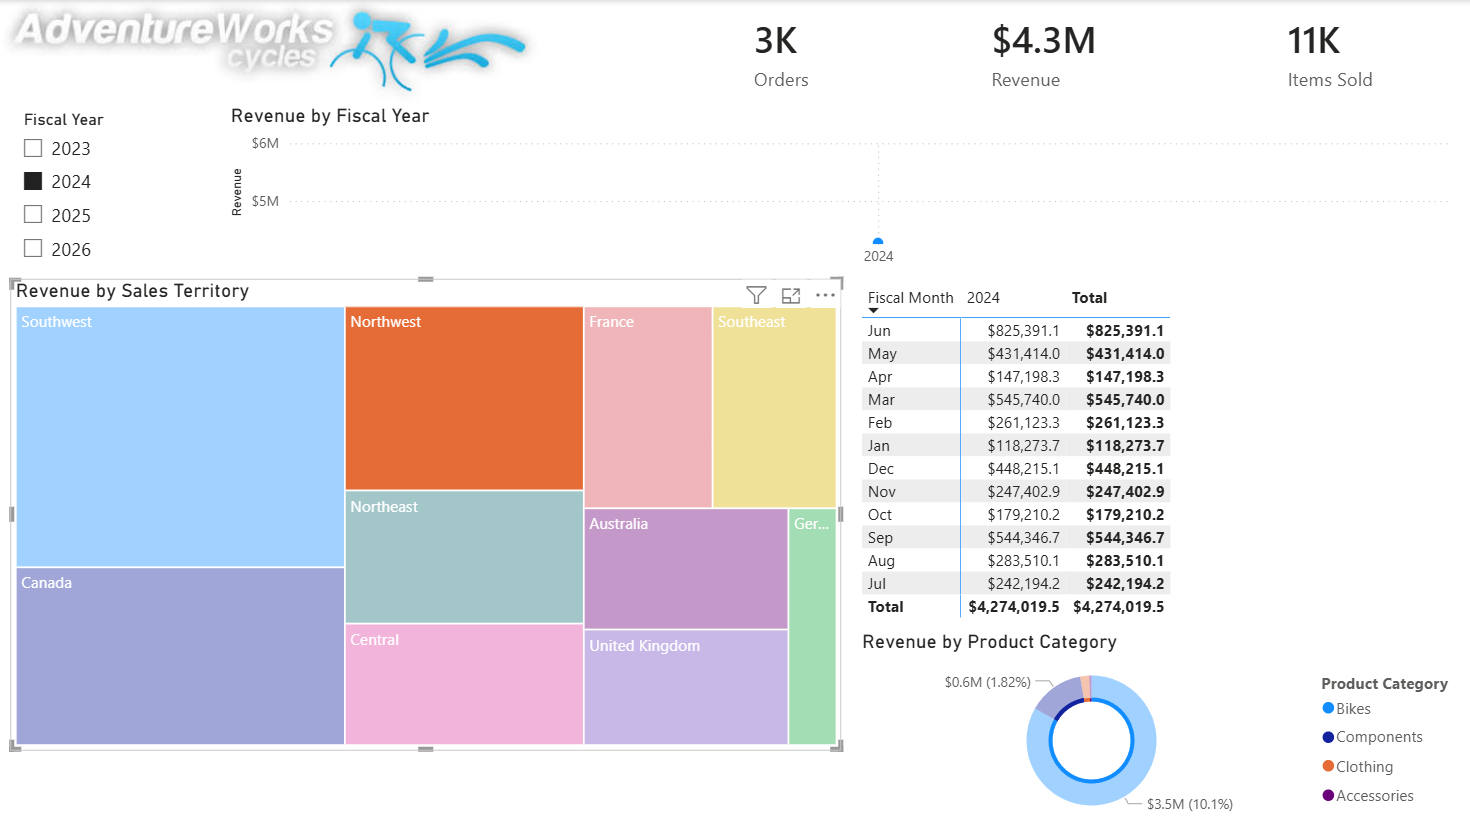

This screenshot's page, from the dashboard's own definition file:
{"tool":"powerbi","page":{"name":"Sales Report","canvas":[1280,720],"ordinal":0},"visuals":[{"type":"areaChart","fields":{"Y":["Order Items.Revenue1"],"Category":["Calendar.Fiscal Year Hierarchy.Fiscal Year","Calendar.Fiscal Year Hierarchy.Fiscal Month","Calendar.Fiscal Year Hierarchy.Day of Week"]},"box":[197.1,90.4,1071.4,151.1],"z":1000},{"type":"pivotTable","fields":{"Rows":["Calendar.Fiscal Month"],"Columns":["Calendar.Fiscal Year"],"Values":["Order Items.Revenue"]},"box":[745.4,241.9,534.9,304.7],"z":2000},{"type":"treemap","title":"Revenue by Sales Territory","fields":{"Values":["Order Items.Revenue"],"Group":["Orders.Value.Territory"]},"box":[9.3,241.9,723.3,410.5],"z":3000},{"type":"image","box":[0,0,470,90.5],"z":4000},{"type":"cardVisual","fields":{"Data":["Order Items.Orders"]},"box":[629.8,0,133.4,90.4],"z":5000},{"type":"cardVisual","fields":{"Data":["Order Items.Revenue after Discount"]},"box":[836.6,0,193.9,90.5],"z":6000},{"type":"cardVisual","fields":{"Data":["Order Items.Items Sold"]},"box":[1093.7,0,133.1,90.6],"z":7000},{"type":"donutChart","fields":{"Y":["Order Items.Revenue after Discount"],"Category":["Products.Product Category"]},"box":[745.4,547.7,534.9,173.3],"z":8000},{"type":"slicer","fields":{"Values":["Calendar.Fiscal Year"]},"box":[9,90,188,151],"z":9000}]}

Visuals, with their boxes in screenshot pixels (x1, y1, x2, y2), scaled from the page's 1280x720 canvas onto the 1470x826 screenshot:
areaChart - Order Items.Revenue1 x Calendar.Fiscal Year Hierarchy.Fiscal Year: region(226, 104, 1457, 277)
pivotTable - Calendar.Fiscal Month x Calendar.Fiscal Year: region(856, 278, 1469, 627)
"Revenue by Sales Territory" treemap: region(11, 278, 841, 748)
image: region(0, 0, 540, 104)
cardVisual - Order Items.Orders: region(723, 0, 876, 104)
cardVisual - Order Items.Revenue after Discount: region(961, 0, 1183, 104)
cardVisual - Order Items.Items Sold: region(1256, 0, 1409, 104)
donutChart - Order Items.Revenue after Discount x Products.Product Category: region(856, 628, 1469, 825)
slicer - Calendar.Fiscal Year: region(10, 103, 226, 276)
